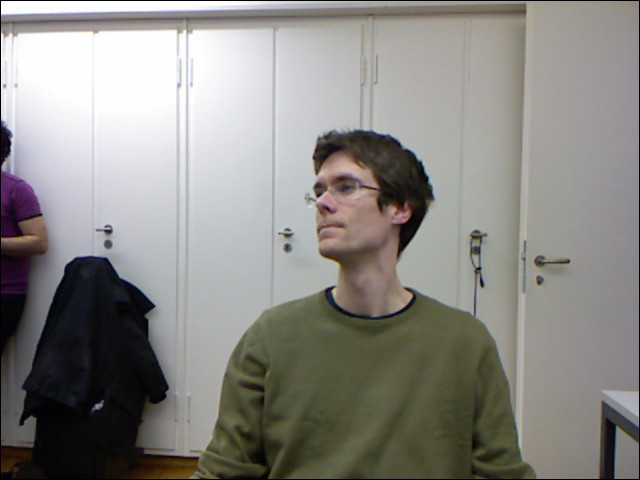deflection: (248, 133, 506, 480)
